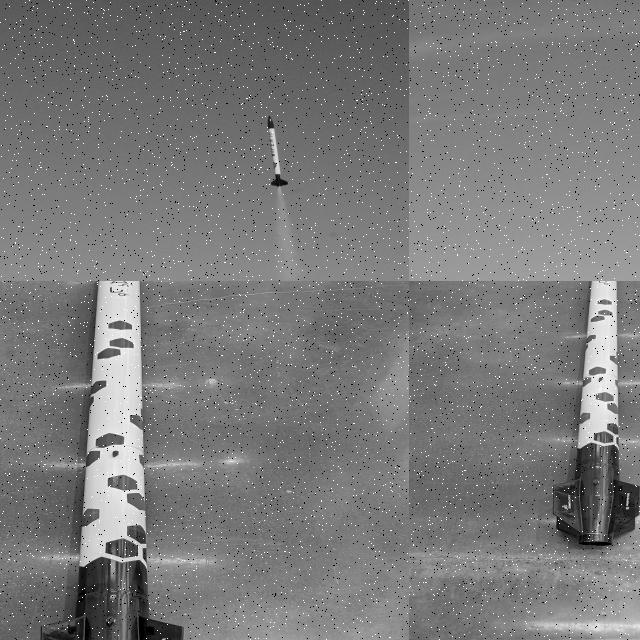Rocket: (40, 281, 184, 640), (553, 281, 640, 547), (267, 115, 289, 187)
